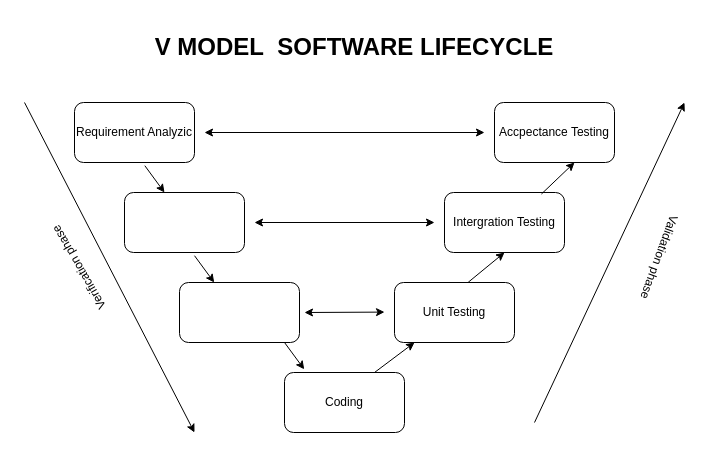
The diagram is 713 pixels wide and 458 high, and some of its shapes have lost their labels. Each missing label, with the centre of its shape:
Module Design: the point at 239,312
System requirement: the point at 184,222
